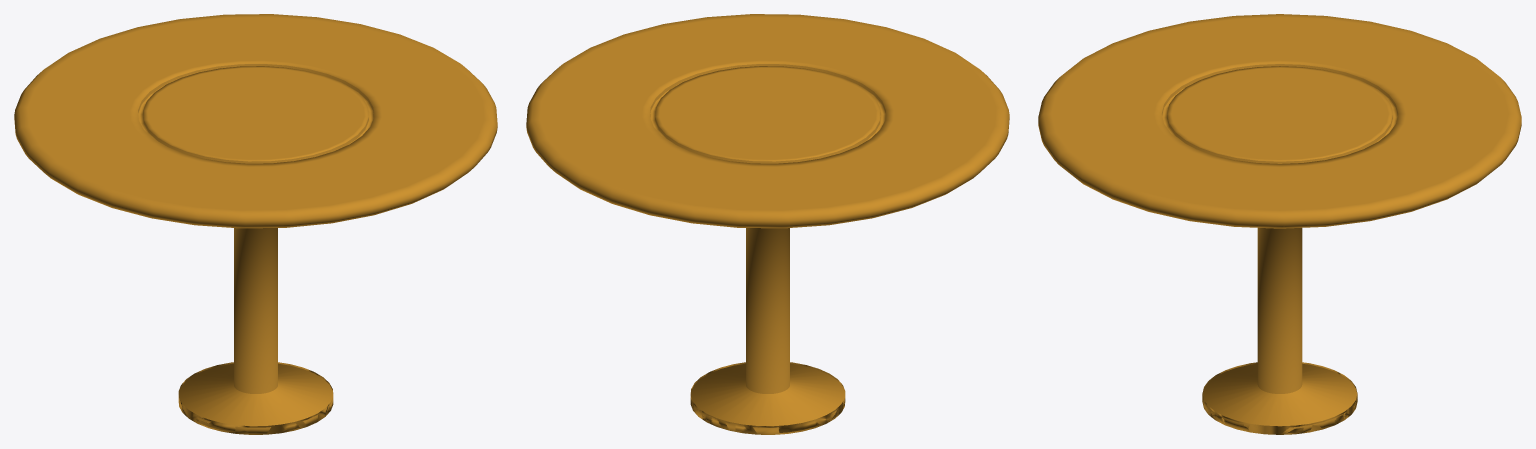
The model's file is dinning table 2.fbx.
3 views of the same model, side by side, from view 1: azimuth 30°, elevation 25°; view 2: azimuth 150°, elevation 25°; view 3: azimuth 270°, elevation 25° (orthographic).
Visible parts, largest first — view 1: Cylinder.001; view 2: Cylinder.001; view 3: Cylinder.001.
Boxes of the visible parts, bbox=[...] form: Cylinder.001: bbox=[14, 14, 497, 434]; Cylinder.001: bbox=[526, 14, 1009, 434]; Cylinder.001: bbox=[1038, 14, 1521, 434].
Bounding box in the file's own units: 865 × 570 × 865.
